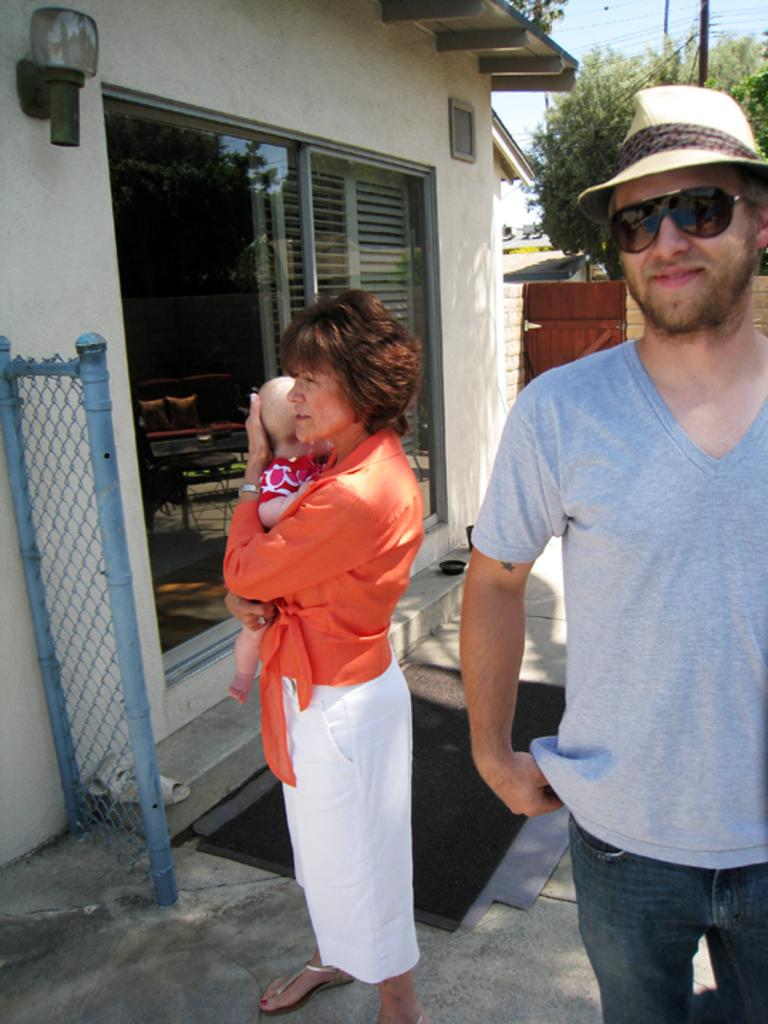Hat: (581, 84, 766, 228)
